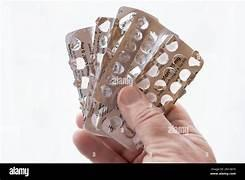pill_Strip: (78, 7, 202, 147), (94, 10, 154, 110), (134, 35, 202, 112), (66, 27, 105, 135), (87, 17, 114, 130), (124, 11, 166, 46), (148, 19, 177, 58)
